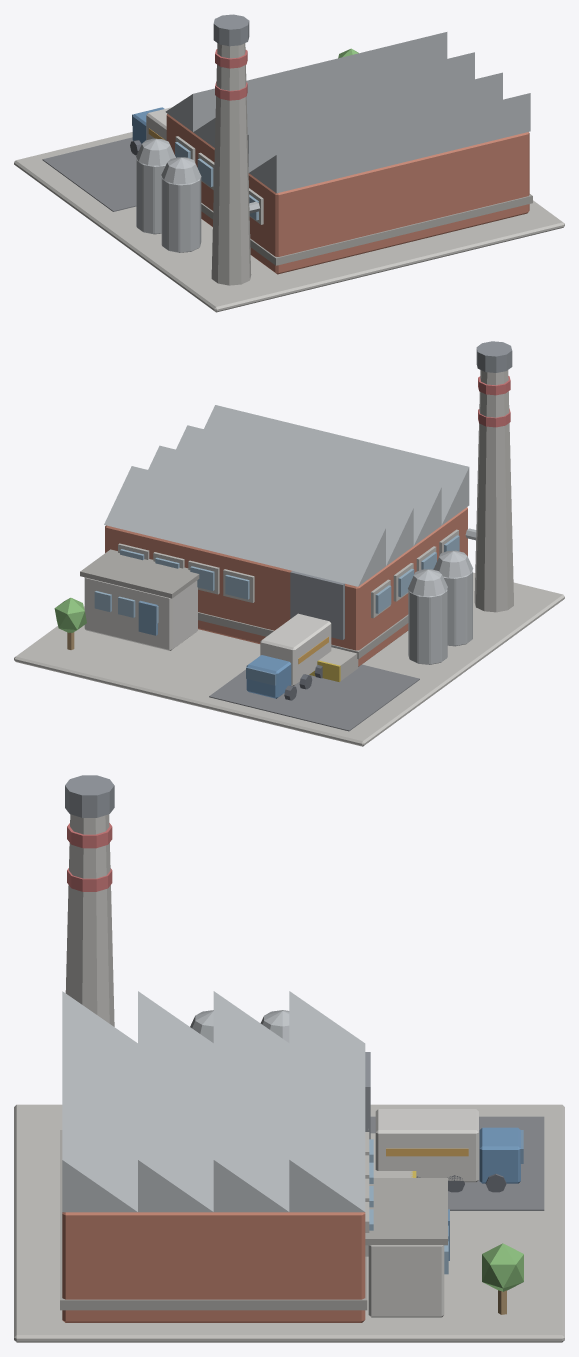
The model's file is industrial__fabrica.glb.
3 renders of one model, top to bottom at view 1: azimuth 30°, elevation 25°; view 2: azimuth 150°, elevation 25°; view 3: azimuth 270°, elevation 25°, orthographic. The views are drawn at different scales.
Visible parts, largest first — view 1: industrial__fabrica; view 2: industrial__fabrica; view 3: industrial__fabrica.
Part boxes in pixels (bbox=[...]): industrial__fabrica: bbox=[14, 14, 564, 312]; industrial__fabrica: bbox=[14, 341, 564, 746]; industrial__fabrica: bbox=[14, 775, 564, 1342].
Bounding box in the file's own units: 4 × 2.84 × 4.
